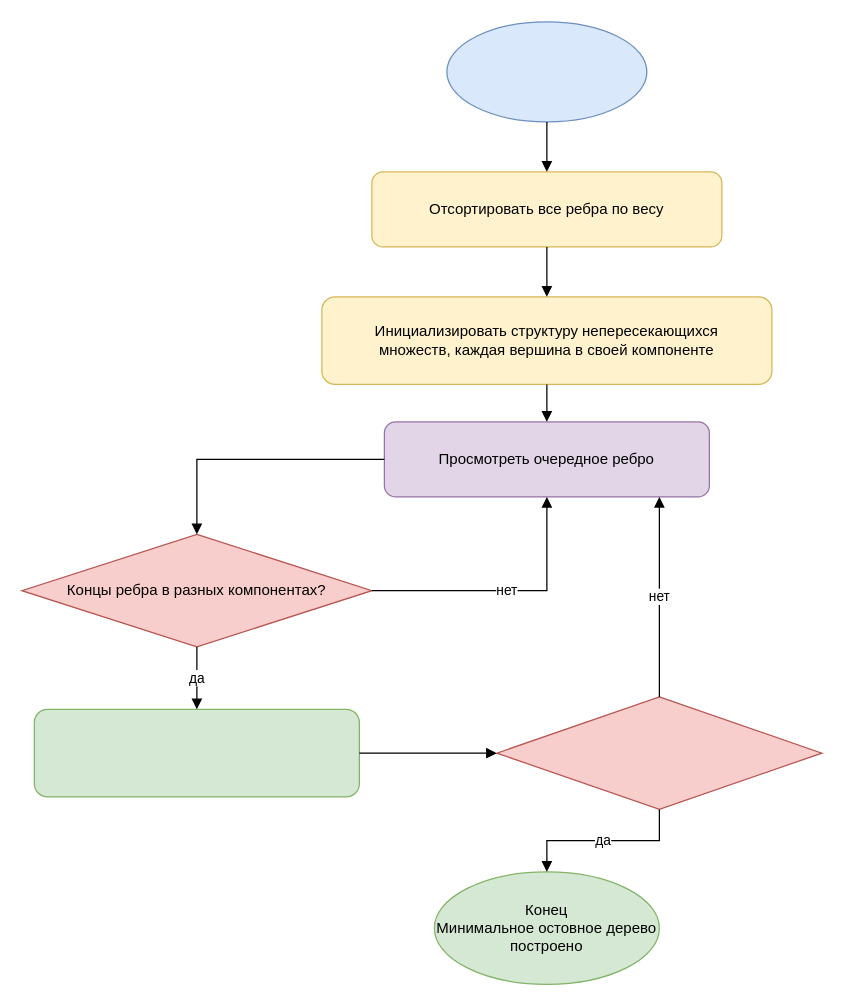
This 844x1006 diagram has some shape labels left out. Here are the shapes that lost their labels. From the top down, the centre of each, then its label:
At point (546, 71): "Начало".
At point (196, 752): "Добавить ребро в минимальное остовное дерево и объединить компоненты".
At point (659, 752): "Минимальное остовное дерево уже содержит |V|-1 ребро?".
